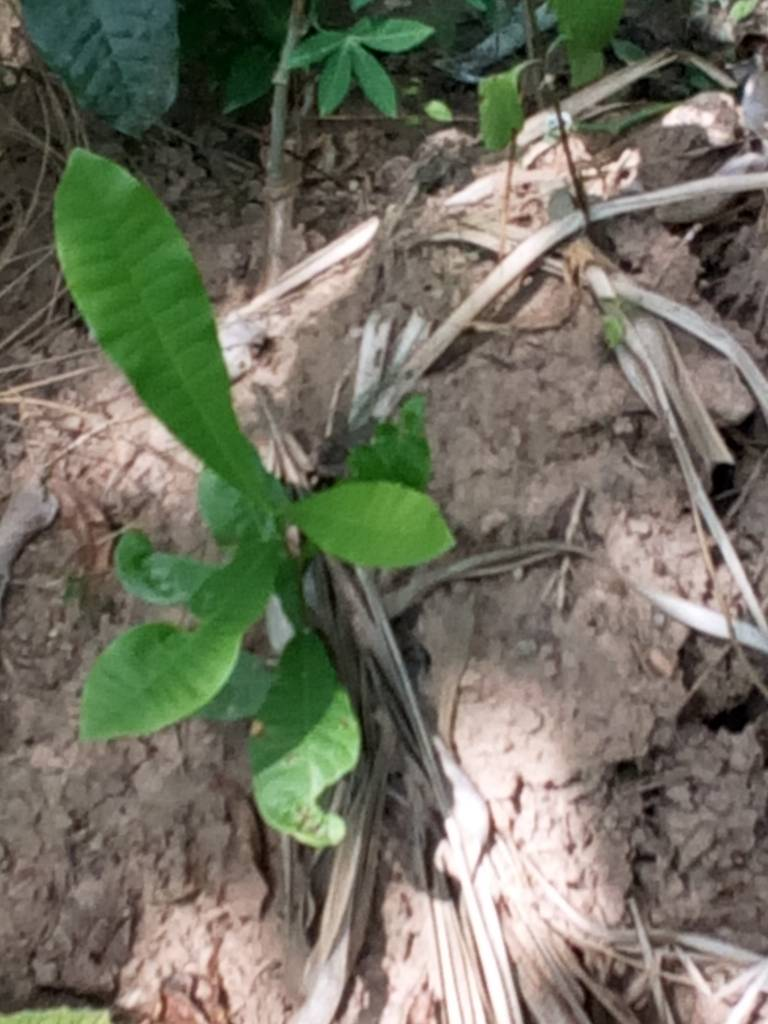Helopeltis anacardii: (77, 541, 288, 746), (261, 638, 360, 847)
